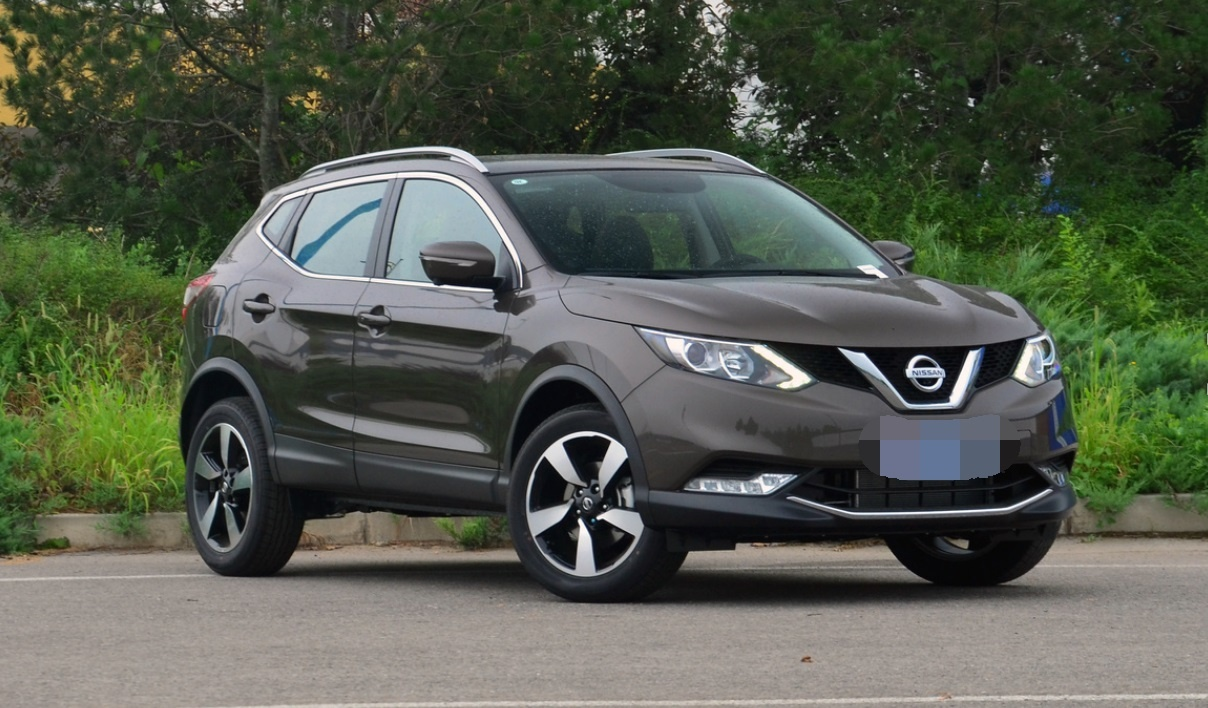SUV: (174, 138, 1083, 610)
